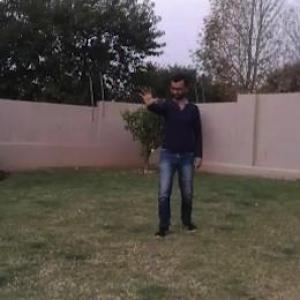follow_hand: (136, 81, 158, 108)
